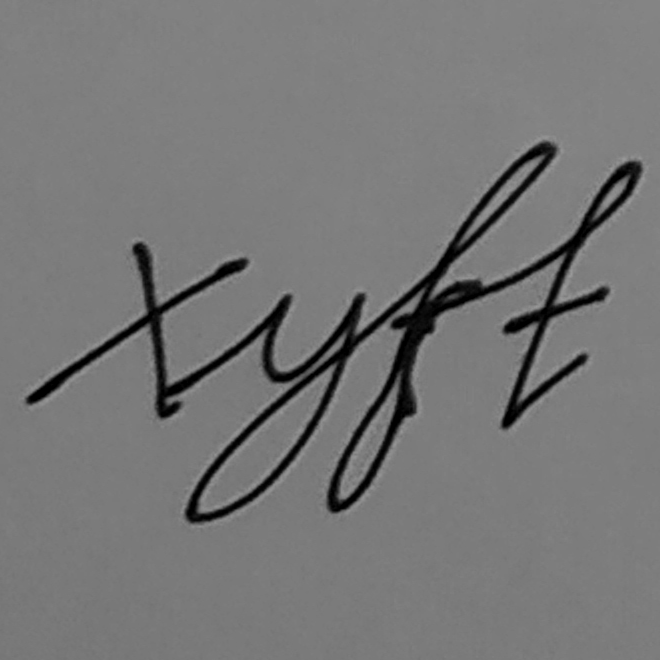f: (316, 134, 560, 518)
t: (497, 154, 645, 433)
x: (18, 237, 252, 422)
y: (178, 285, 367, 526)
